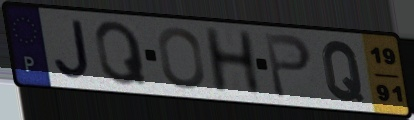H: (199, 25, 265, 96)
J: (51, 18, 93, 81)
O: (155, 25, 208, 92)
P: (261, 31, 315, 101)
Q: (93, 19, 151, 88), (320, 38, 367, 104)
